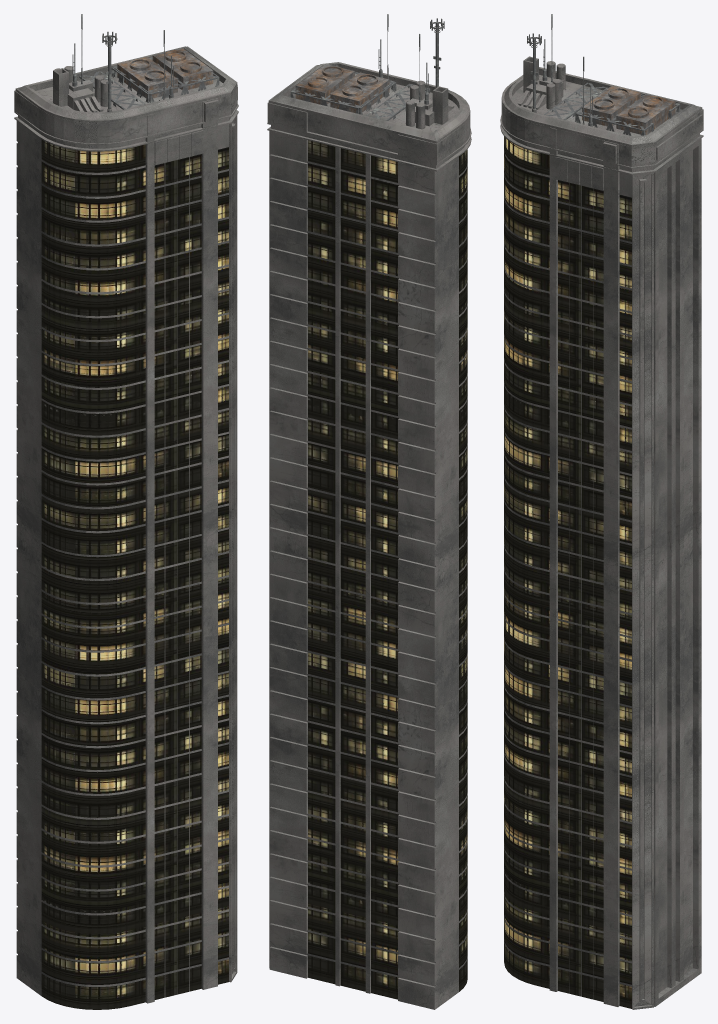
File: lz-skyscraper-2.glb
3 renders of one model, left to right at view 1: azimuth 30°, elevation 25°; view 2: azimuth 150°, elevation 25°; view 3: azimuth 330°, elevation 25°, orthographic. The views are drawn at different scales.
Visible parts, largest first — view 1: lz-skyscraper-2; view 2: lz-skyscraper-2; view 3: lz-skyscraper-2.
Boxes of the visible parts, bbox=[...] form: lz-skyscraper-2: bbox=[14, 14, 238, 1009]; lz-skyscraper-2: bbox=[267, 14, 471, 1009]; lz-skyscraper-2: bbox=[500, 14, 703, 1009].
Bounding box in the file's own units: 71.03 × 374 × 42.26.
Materials: 4 (4 with a texture image).
